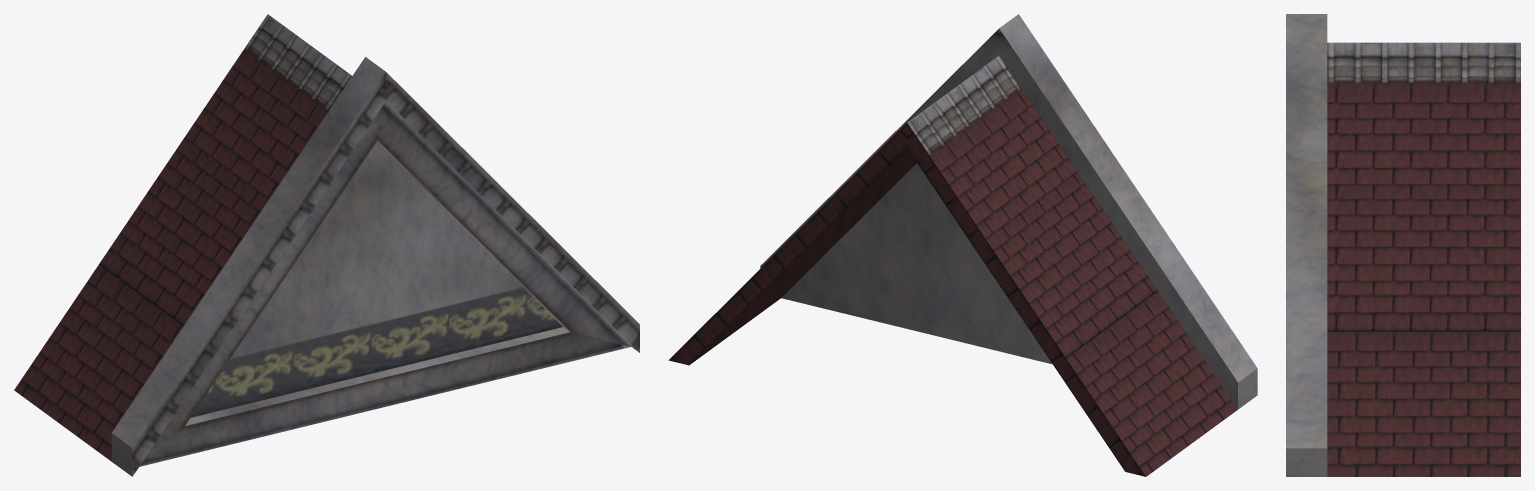
Rendered from rooftop_02.glb.
The picture shows the model from 3 angles, left to right: view 1: azimuth 30°, elevation 25°; view 2: azimuth 150°, elevation 25°; view 3: azimuth 270°, elevation 25°; orthographic projection. The views are drawn at different scales.
Parts seen in each view (by area): view 1: rooftop_02; view 2: rooftop_02; view 3: rooftop_02.
Part boxes in pixels (x1=…): rooftop_02: x1=14, y1=14, x2=639, y2=476; rooftop_02: x1=668, y1=14, x2=1257, y2=476; rooftop_02: x1=1286, y1=14, x2=1520, y2=476.
Size of the model in its own units: 24 by 15.51 by 9.7.
Materials: 1 (1 with a texture image).
